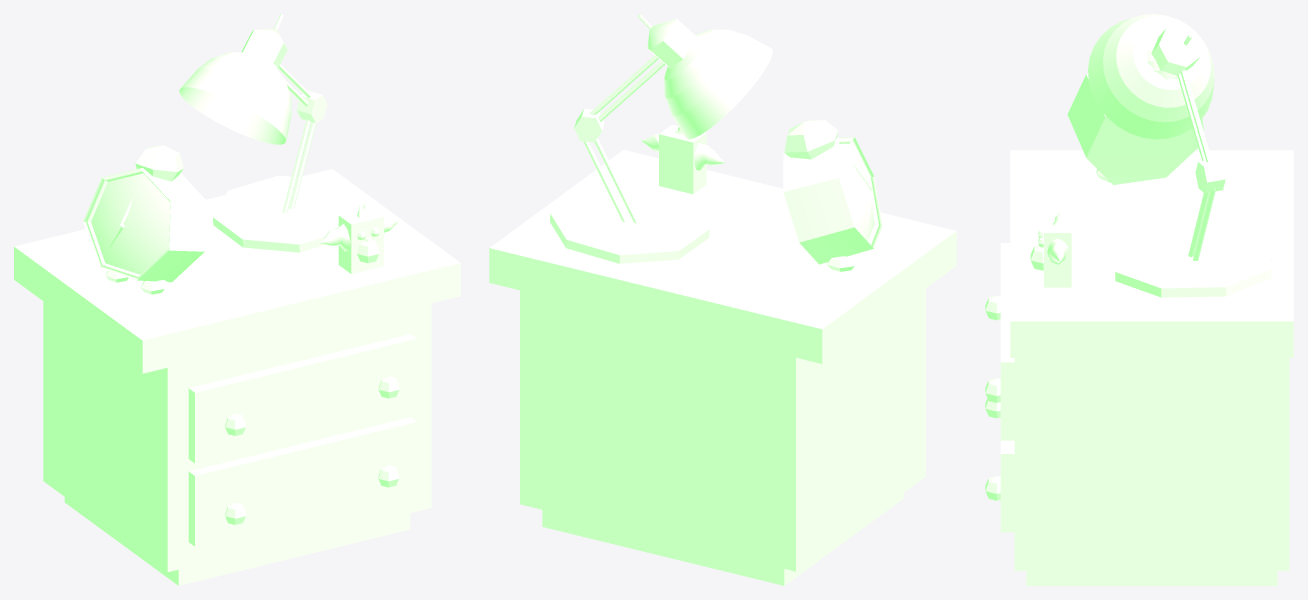
Rendered from buro.gltf.
3 renders of one model, left to right at view 1: azimuth 30°, elevation 25°; view 2: azimuth 150°, elevation 25°; view 3: azimuth 270°, elevation 25°, orthographic. The views are drawn at different scales.
Visible parts, largest first — view 1: Mesh_0; view 2: Mesh_0; view 3: Mesh_0.
Part boxes in pixels (x1=…): Mesh_0: x1=14, y1=14, x2=460, y2=585; Mesh_0: x1=489, y1=14, x2=956, y2=585; Mesh_0: x1=985, y1=14, x2=1293, y2=585.
Bounding box in the file's own units: 91.62 × 130 × 69.7.
